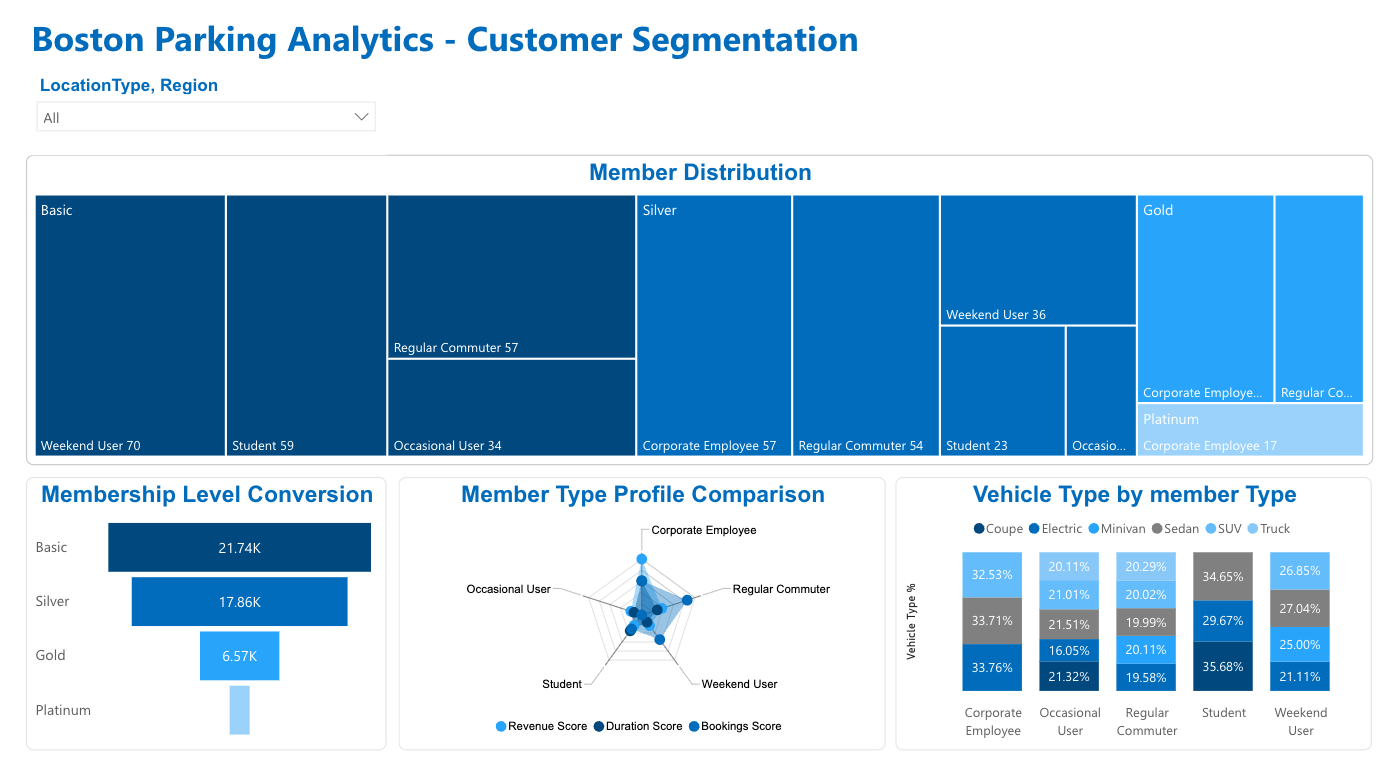

The dashboard page shown, as its layout file describes it:
{"tool":"powerbi","page":{"name":"Customer Segmentation","canvas":[1280,720],"ordinal":2},"visuals":[{"type":"funnel","title":"Membership Level Conversion","fields":{"Category":["Members.MembershipLevel"],"Y":["CountNonNull(Bookings.BookingID)"]},"box":[9.2,452.9,335.1,254],"z":0},{"type":"treemap","title":"Member Distribution","fields":{"Group":["Members.MembershipLevel"],"Values":["CountNonNull(Members.MemberID)"],"Details":["Members.MemberType"]},"box":[9.2,153.2,1252.8,289.3],"z":1000},{"type":"RadarChart1446119667547","title":"Member Type Profile Comparison","fields":{"Y":["Booking Status Table.Revenue Score","Booking Status Table.Duration Score","Booking Status Table.Bookings Score"],"Category":["Members.MemberType"]},"box":[356.1,452.9,452.9,254],"z":2000},{"type":"hundredPercentStackedColumnChart","title":"Vehicle Type by member Type","fields":{"Category":["Members.MemberType"],"Y":["CountNonNull(Vehicles.VehicleID)"],"Series":["Vehicles.VehicleType"]},"box":[818.2,452.9,443.8,254],"z":3000},{"type":"textbox","box":[9.2,17,983.1,56.3],"z":4000},{"type":"slicer","fields":{"Values":["Locations.LocationType","Locations.Region"]},"box":[9.2,73.3,335.1,79.9],"z":5000}]}

Visuals, with their boxes in screenshot pixels (x1, y1, x2, y2), scaled from the page's 1280x720 canvas onto the 1392x763 screenshot:
"Membership Level Conversion" funnel: (x1=10, y1=480, x2=374, y2=749)
"Member Distribution" treemap: (x1=10, y1=162, x2=1372, y2=469)
"Member Type Profile Comparison" RadarChart1446119667547: (x1=387, y1=480, x2=880, y2=749)
"Vehicle Type by member Type" hundredPercentStackedColumnChart: (x1=890, y1=480, x2=1372, y2=749)
textbox: (x1=10, y1=18, x2=1079, y2=78)
slicer - Locations.LocationType x Locations.Region: (x1=10, y1=78, x2=374, y2=162)
